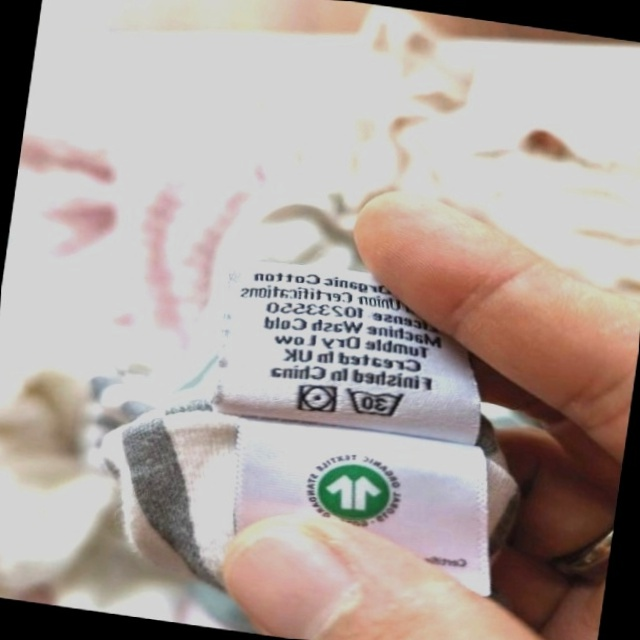30C: (341, 381, 410, 424)
tumble_dry_low: (292, 378, 341, 419)
